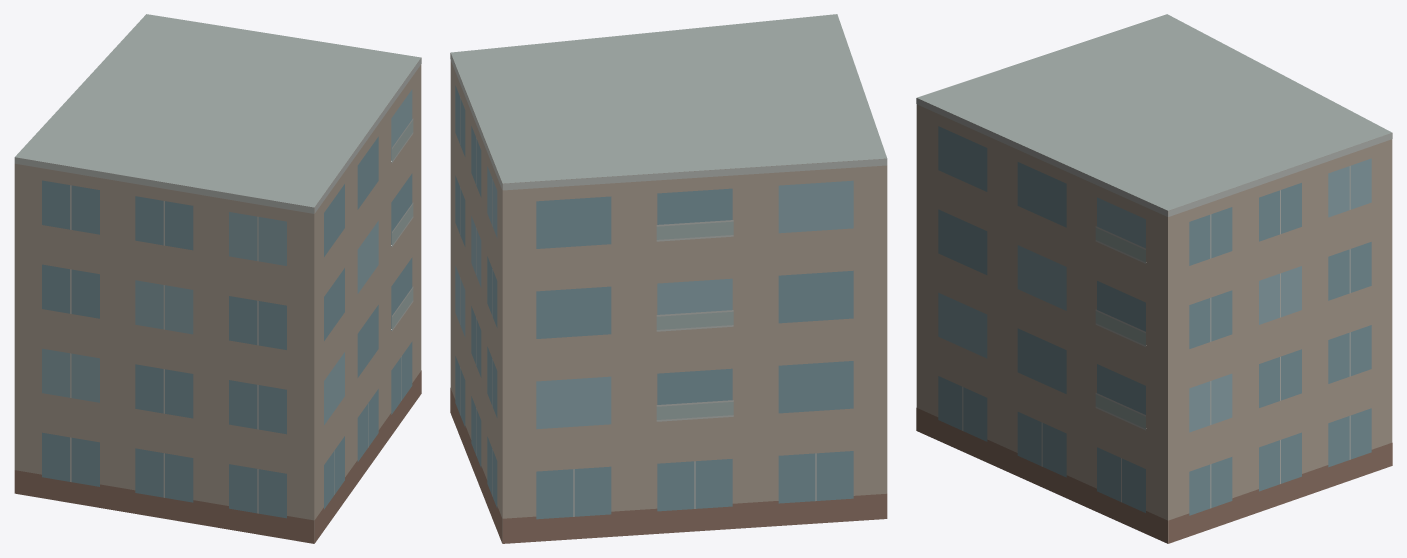
The model's file is survey-upis-32648282.glb.
3 renders of one model, left to right at view 1: azimuth 30°, elevation 25°; view 2: azimuth 150°, elevation 25°; view 3: azimuth 270°, elevation 25°, orthographic. The views are drawn at different scales.
Visible parts, largest first — view 1: survey-upis-32648282.tmp; view 2: survey-upis-32648282.tmp; view 3: survey-upis-32648282.tmp.
Boxes of the visible parts, <box> form: survey-upis-32648282.tmp: <box>14,14,421,543</box>; survey-upis-32648282.tmp: <box>450,14,887,543</box>; survey-upis-32648282.tmp: <box>916,14,1392,543</box>.
Size of the model in its own units: 16.1 by 12.7 by 16.46.
